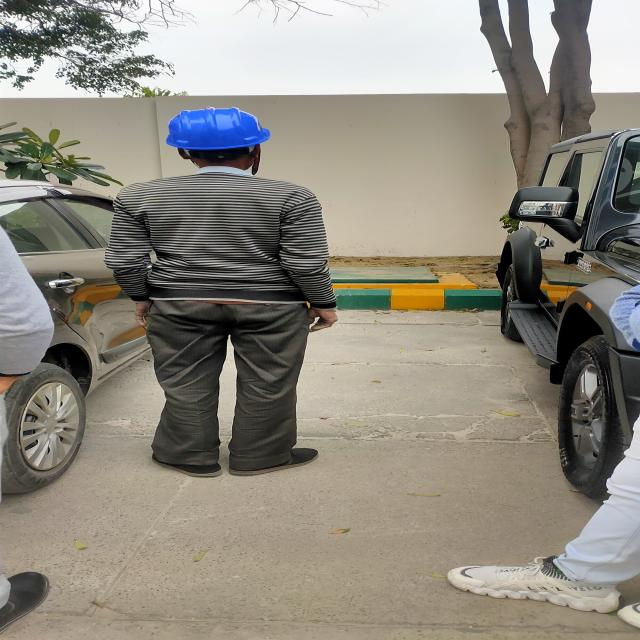no jacket: (111, 110, 334, 478)
